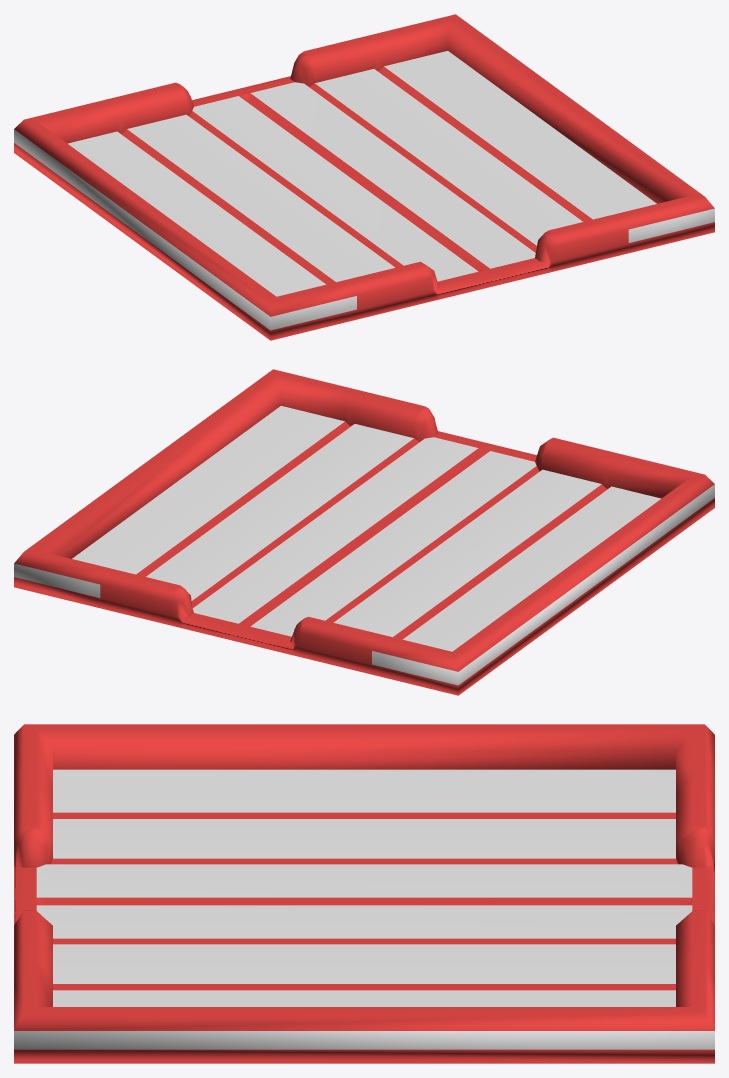
The model's file is Arena.fbx.
3 renders of one model, top to bottom at view 1: azimuth 30°, elevation 25°; view 2: azimuth 150°, elevation 25°; view 3: azimuth 270°, elevation 25°, orthographic. The views are drawn at different scales.
Parts seen in each view (by area): view 1: Arena; view 2: Arena; view 3: Arena.
Part boxes in pixels (<box>): Arena: <box>14,14,714,340</box>; Arena: <box>14,369,714,695</box>; Arena: <box>14,724,714,1063</box>.
Bounding box in the file's own units: 1354 × 100 × 1354.
